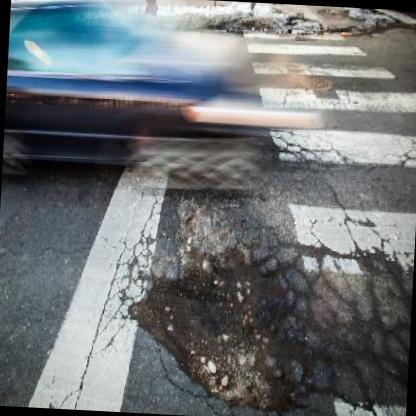pothole: (129, 242, 313, 416)
